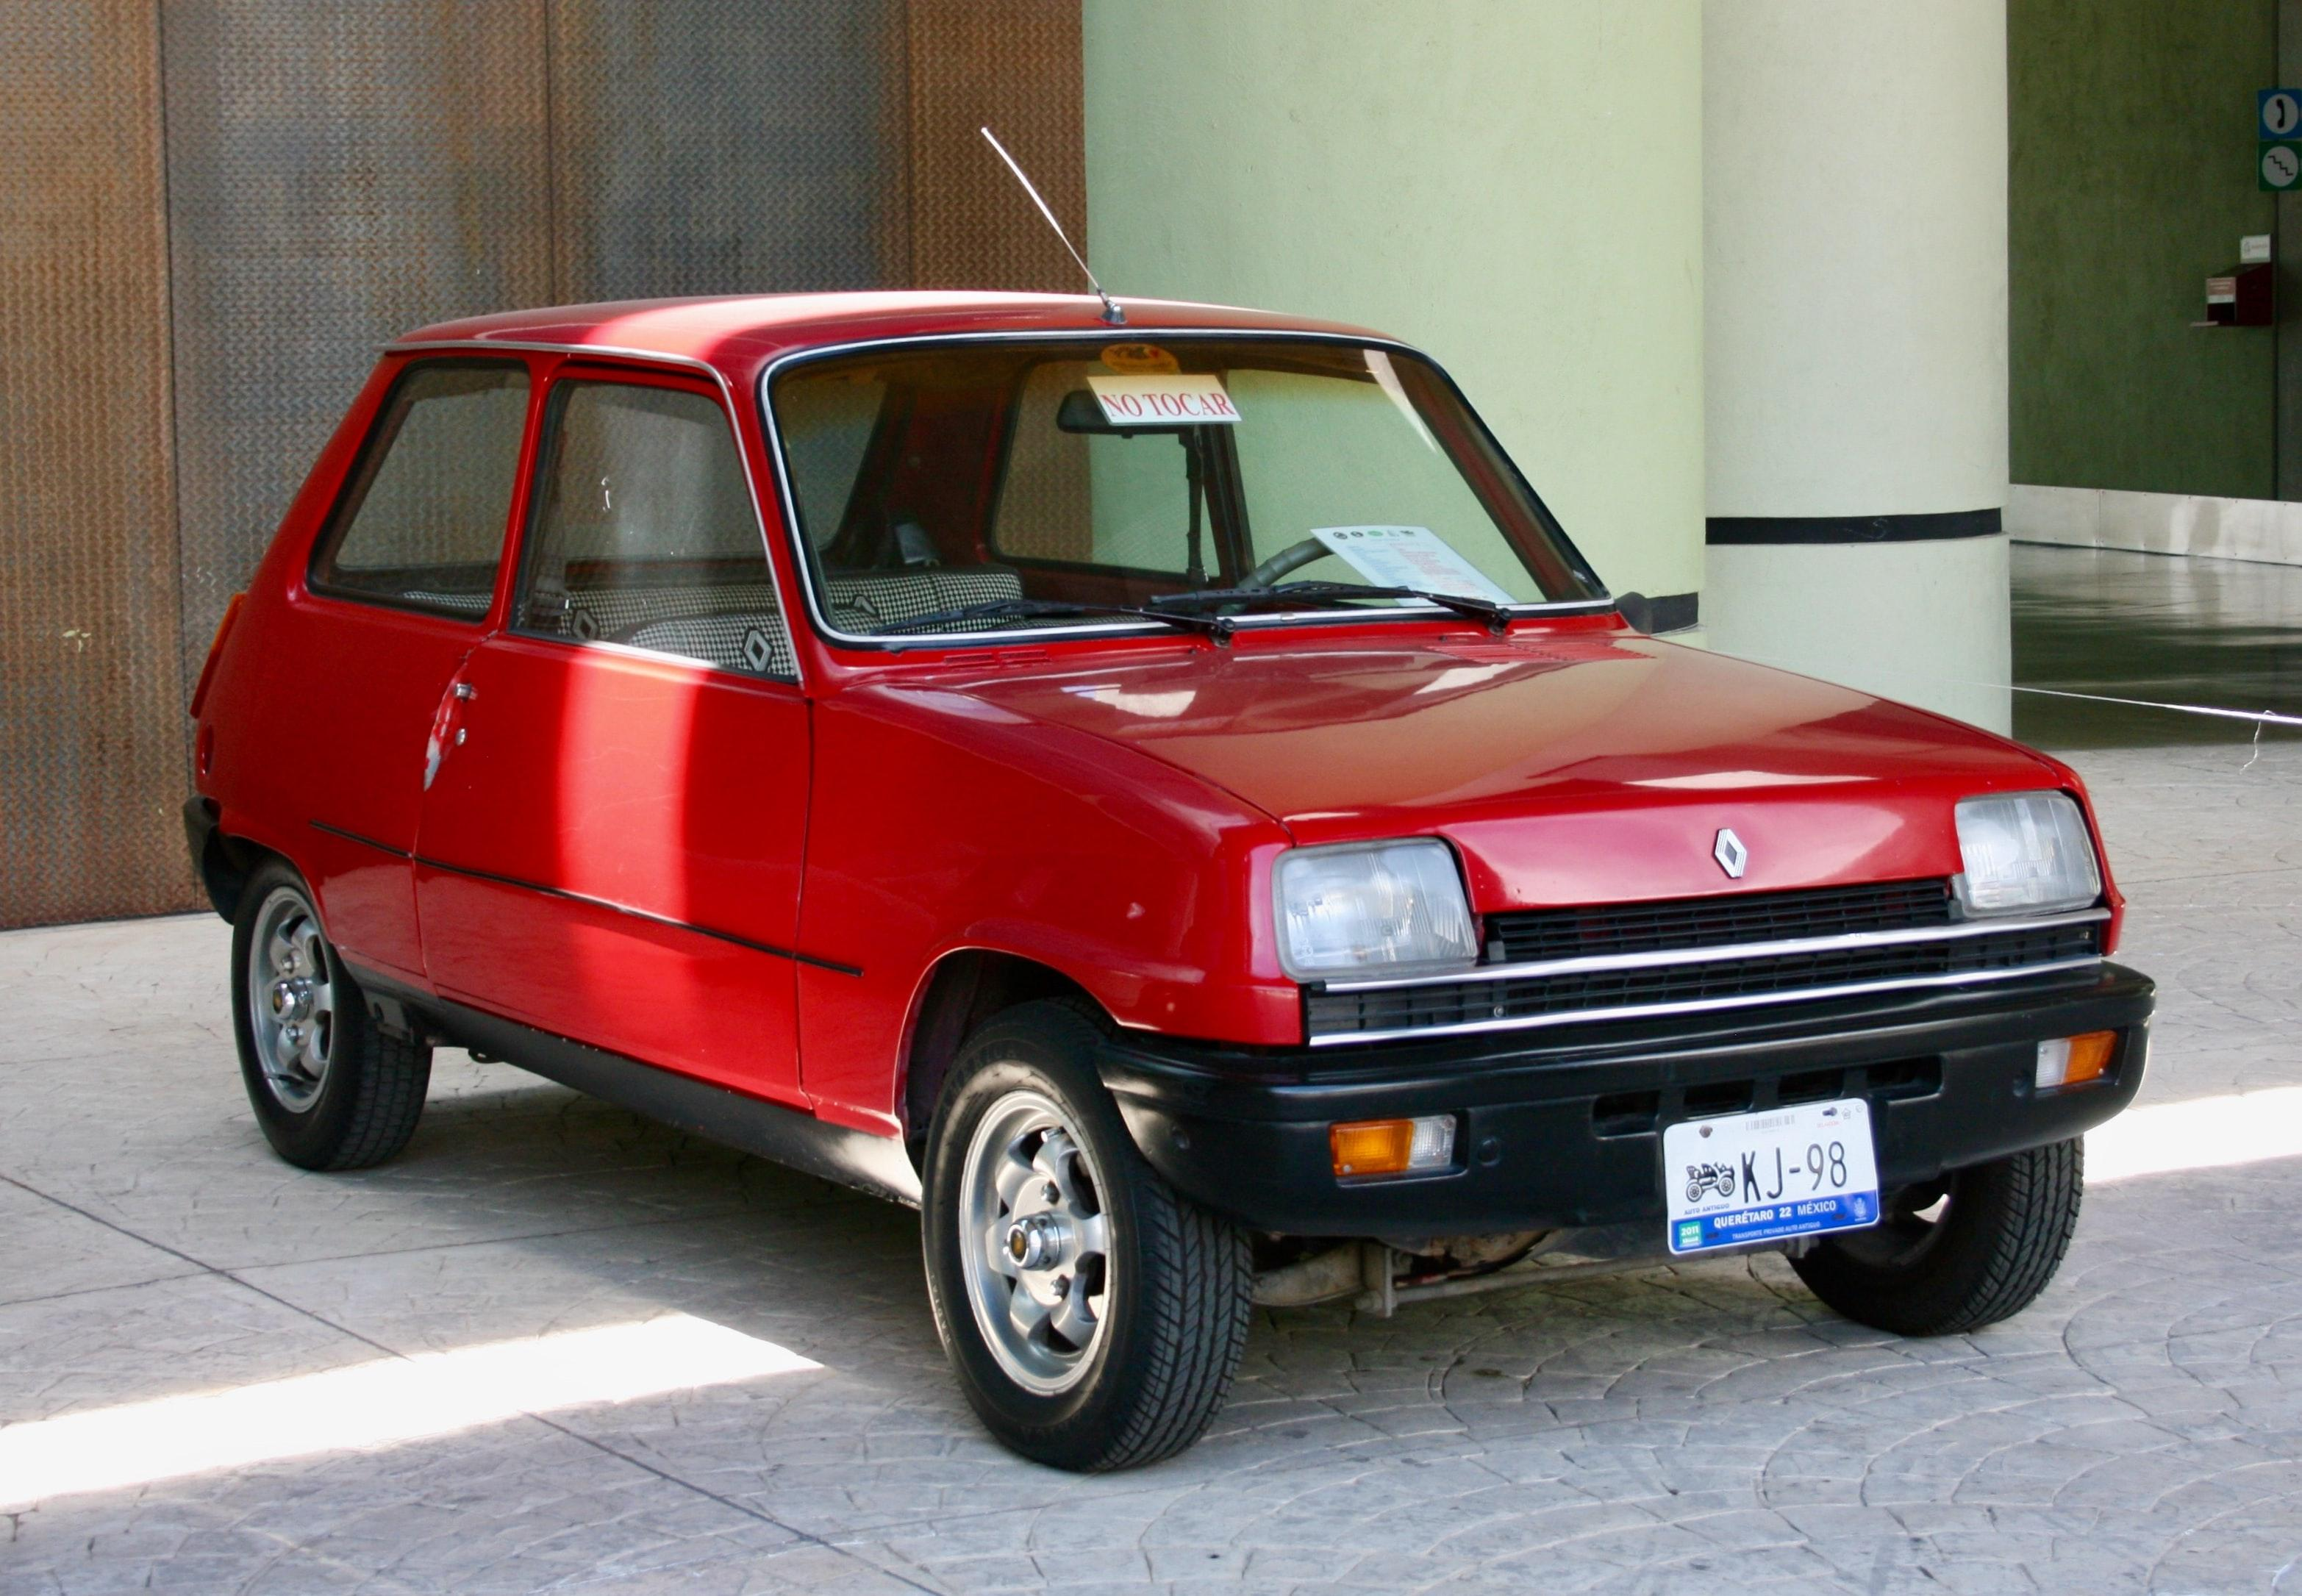Renault: (1685, 805, 1779, 900)
